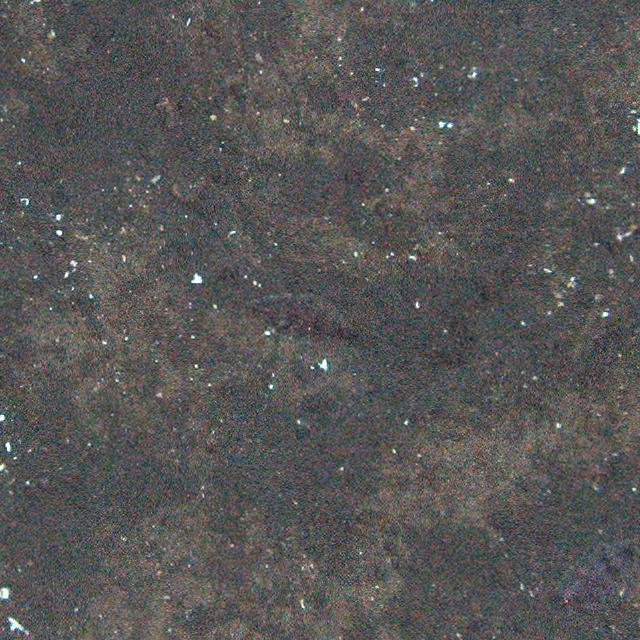flatfish: (240, 286, 362, 348)
